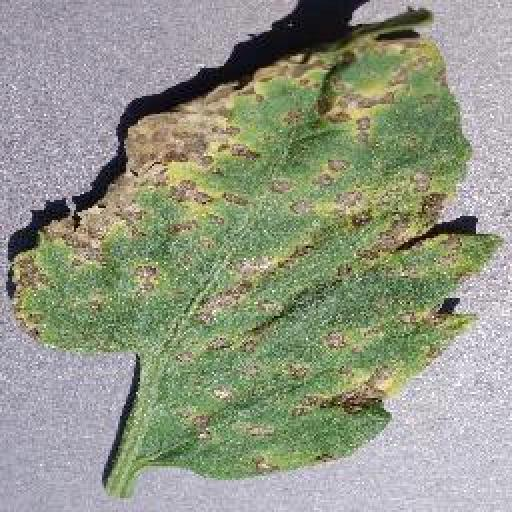disease_tomato: (10, 8, 504, 478)
